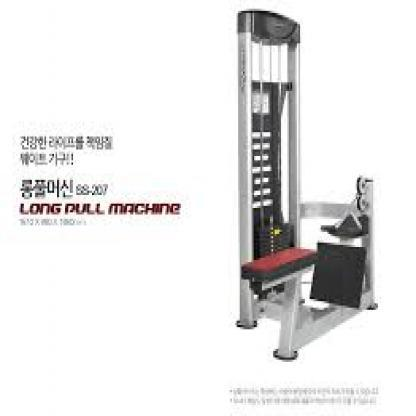Seated Cable Rows: (223, 7, 384, 369)
